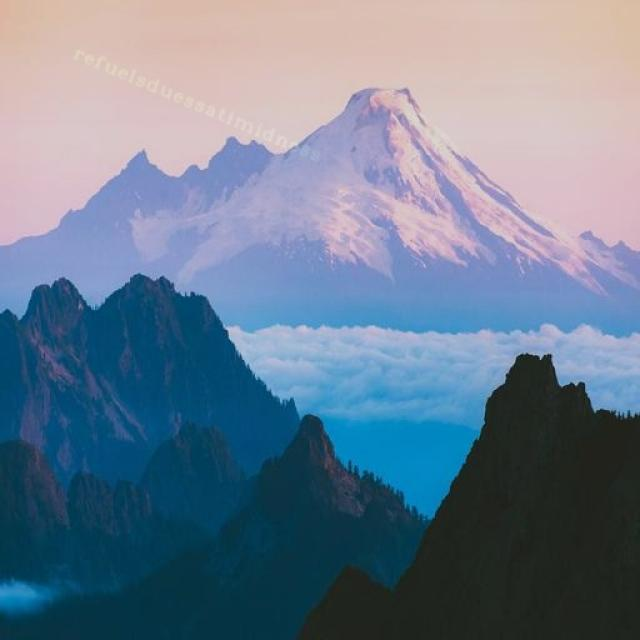watermark: (66, 43, 331, 164)
